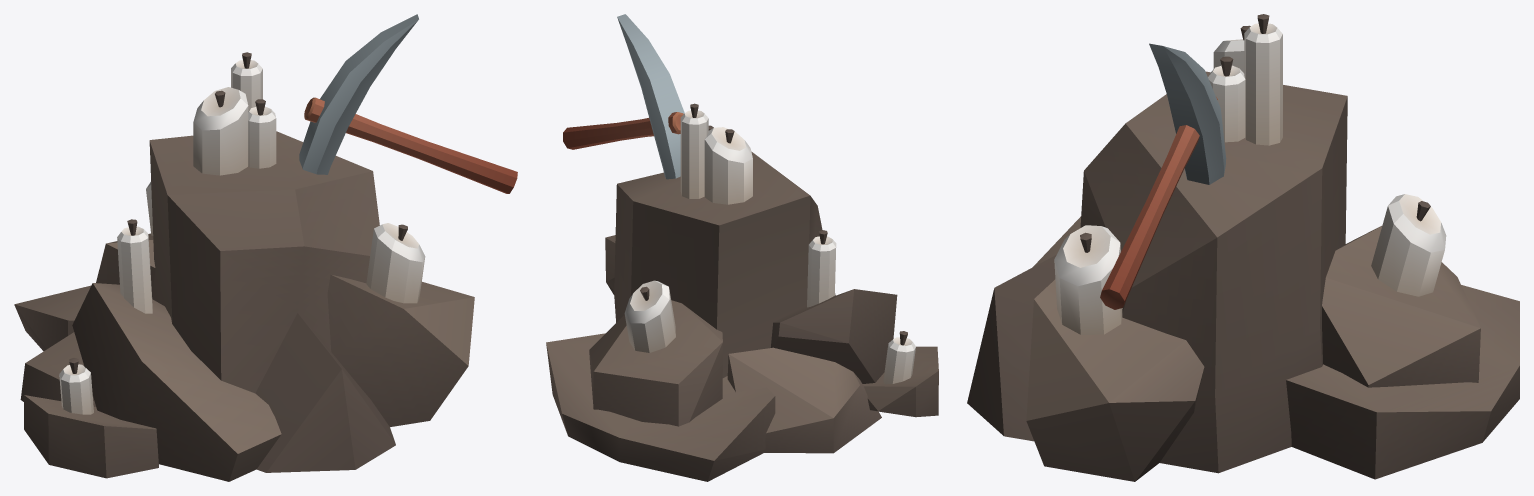
The model's file is rocks_decorated.glb.
3 renders of one model, left to right at view 1: azimuth 30°, elevation 25°; view 2: azimuth 150°, elevation 25°; view 3: azimuth 270°, elevation 25°, orthographic. The views are drawn at different scales.
Visible parts, largest first — view 1: rocks_decorated; view 2: rocks_decorated; view 3: rocks_decorated.
Boxes of the visible parts, x1,y1,x2,y2 form: rocks_decorated: [14, 14, 517, 481]; rocks_decorated: [546, 14, 938, 481]; rocks_decorated: [967, 14, 1519, 481].
Size of the model in its own units: 3.14 by 2.43 by 2.76.
1 material, 1 textured.
